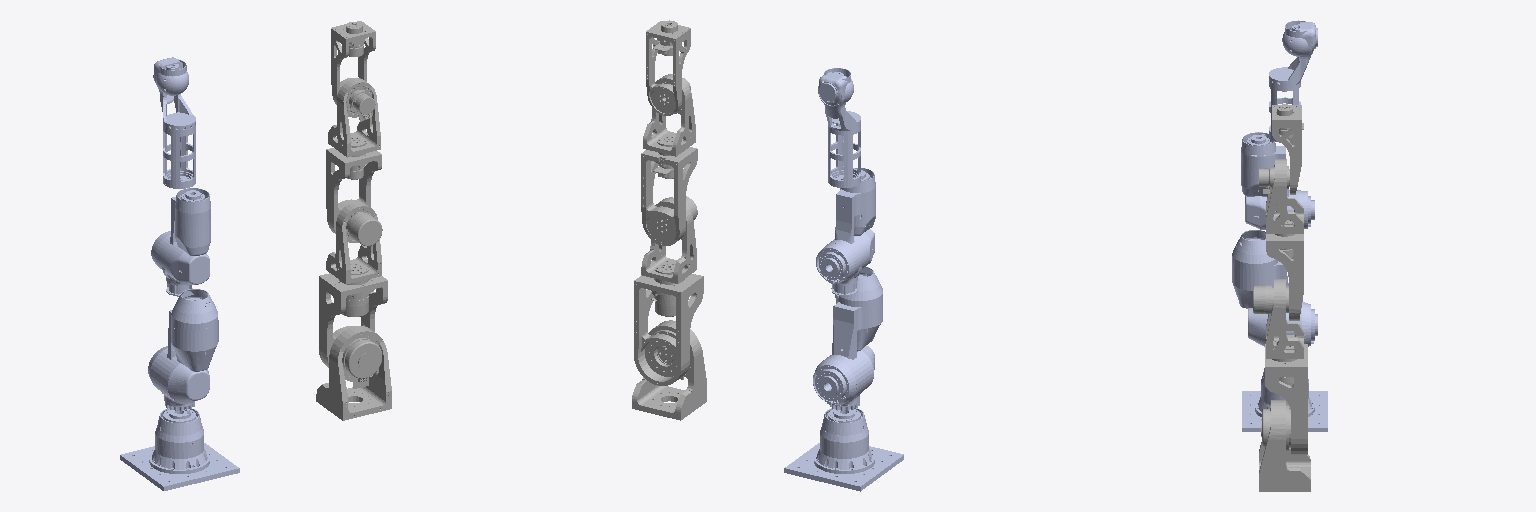
--- Render facts (derived) ---
3 views of the same robot in one strip: view 1: azimuth 30°, elevation 25°; view 2: azimuth 150°, elevation 25°; view 3: azimuth 270°, elevation 25° (orthographic).
Model dualarm with 20 links and 19 joints (14 revolute, 5 fixed), rooted at dummy_link, posed all joints at 0.
Links seen in each view (by area): view 1: mani1_link2, mani2_base, mani2_link3, mani1_link4, mani1_link3, mani1_link6, mani2_link6, mani2_link5, mani2_link2, mani1_link5, mani2_link4, mani1_link7 (+1 smaller); view 2: mani1_link3, mani2_base, mani1_link5, mani1_link2, mani2_link3, mani2_link6, mani1_link7, mani2_link2, mani2_link4, mani2_link5, mani1_link4, mani1_link6; view 3: mani1_link2, mani1_link3, mani1_link4, mani2_link3, mani1_link6, mani2_base, mani1_link5, mani2_link5, mani2_link6, mani1_link7, mani2_link2, mani2_link4 (+1 smaller).
Link boxes in pixels (bbox=[...]): mani1_link2: bbox=[316, 326, 391, 420]; mani2_base: bbox=[120, 408, 239, 490]; mani2_link3: bbox=[161, 289, 218, 396]; mani1_link4: bbox=[326, 202, 382, 284]; mani1_link3: bbox=[319, 273, 387, 367]; mani1_link6: bbox=[328, 78, 380, 157]; mani2_link6: bbox=[154, 57, 195, 188]; mani2_link5: bbox=[162, 188, 210, 278]; mani2_link2: bbox=[148, 346, 209, 413]; mani1_link5: bbox=[326, 148, 381, 233]; mani2_link4: bbox=[151, 231, 209, 296]; mani1_link7: bbox=[331, 21, 375, 104]; mani1_link3: bbox=[634, 274, 703, 385]; mani2_base: bbox=[784, 408, 903, 491]; mani1_link5: bbox=[641, 147, 697, 245]; mani1_link2: bbox=[632, 320, 706, 420]; mani2_link3: bbox=[832, 267, 882, 397]; mani2_link6: bbox=[818, 72, 860, 187]; mani1_link7: bbox=[646, 20, 690, 115]; mani2_link2: bbox=[813, 345, 874, 410]; mani2_link4: bbox=[816, 229, 874, 297]; mani2_link5: bbox=[835, 168, 875, 277]; mani1_link4: bbox=[641, 196, 697, 283]; mani1_link6: bbox=[643, 74, 695, 156]; mani1_link2: bbox=[1259, 400, 1310, 491]; mani1_link3: bbox=[1265, 344, 1307, 454]; mani1_link4: bbox=[1253, 279, 1303, 358]; mani2_link3: bbox=[1232, 230, 1288, 308]; mani1_link6: bbox=[1259, 159, 1303, 233]; mani2_base: bbox=[1242, 368, 1327, 431]; mani1_link5: bbox=[1266, 234, 1303, 320]; mani2_link5: bbox=[1241, 132, 1288, 196]; mani2_link6: bbox=[1269, 22, 1317, 142]; mani1_link7: bbox=[1272, 104, 1303, 194]; mani2_link2: bbox=[1248, 302, 1317, 346]; mani2_link4: bbox=[1245, 190, 1314, 229].
Bounding box of the posed robot: 0.625 × 0.223 × 1 m (x, y, z).
13 mesh visuals loaded from 19 distinct referenced files (13 binary STL); not drawn: 6 (reference not matched to a file when rendering).

The robot description file, URDF, robot "dualarm":
<robot
  name="dualarm">


  <!-- make dummy joint -->

<joint name="dummy_joint" type="fixed">
    <origin xyz="0 0 0" rpy="0 0 0" />
    <child link="base_link"/>
    <parent link="dummy_link"/>
  </joint>


<!-- make dummy link -->

  <link name="dummy_link">
  </link>

  <gazebo reference="dummy_link">
    <material>Gazebo/White</material>
  </gazebo>

<!--
  <link
    name="base2_link">
    <inertial>
      <origin
        xyz="1.56125112837913E-17 8.67361737988404E-17 0.05"
        rpy="0 0 0" />
      <mass
        value="100" />
      <inertia
        ixx="8.41666666666667"
        ixy="9.71445146547012E-16"
        ixz="-1.38777878078145E-17"
        iyy="8.41666666666666"
        iyz="9.25185853854297E-18"
        izz="16.6666666666667" />
    </inertial>
    <visual>
      <origin
        xyz="0 0 0"
        rpy="0 0 0" />
      <geometry>
        <mesh
          filename="package://dualarm_config/meshes/base2_link.STL" />
      </geometry>
      <material
        name="">
        <color
          rgba="0.792156862745098 0.819607843137255 0.933333333333333 1" />
      </material>
    </visual>
    <collision>
      <origin
        xyz="0 0 0"
        rpy="0 0 0" />
      <geometry>
        <mesh
          filename="package://dualarm_config/meshes/base2_link.STL" />
      </geometry>
    </collision>
  </link>

  <gazebo reference="base2_link">
              
    		<material>Gazebo/White</material>
  </gazebo>

  <joint
    name="base_joint"
    type="fixed">
    <origin
      xyz="0.0 0 0.1"
      rpy="0 0 0" />
    <parent
      link="base2_link" />
    <child
      link="base_link" />
    <axis
      xyz="0 0 0" />
  </joint>
-->

  <link
    name="base_link">
    <inertial>
      <origin
        xyz="0.32 0.225 0.1"
        rpy="0 0 0" />
      <mass
        value="100" />
      <inertia
        ixx="8.41666666666667"
        ixy="9.71445146547012E-16"
        ixz="-1.38777878078145E-17"
        iyy="8.41666666666666"
        iyz="9.25185853854297E-18"
        izz="16.6666666666667" />
    </inertial>
    <visual>
      <origin
        xyz="-0.32 -0.225 0"
        rpy="0 0 0" />
      <geometry>
        <mesh
          filename="package://dualarm_config/meshes/base.STL" />
      </geometry>
      <material
        name="">
        <color
          rgba="0.792156862745098 0.819607843137255 0.933333333333333 1" />
      </material>
    </visual>
    <collision>
      <origin
        xyz="0 0 0"
        rpy="0 0 0" />
      <geometry>
        <mesh
          filename="package://dualarm_config/meshes/base.STL" />
      </geometry>
    </collision>
  </link>

  <gazebo reference="base_link">              
    		<material>Gazebo/White</material>
  </gazebo>





<!-- distance between two manipulator is 46cm (=0.46/2 =0.23) -->
<!-- height between base origin to manipulator base is 11.2cm (=0.112) -->

  <joint
    name="base_joint_left"
    type="fixed">
    <origin
      xyz="0.230 0 0.376"
      rpy="0 0 0" />
    <parent
      link="base_link" />
    <child
      link="mani1_base" />
    <axis
      xyz="0 0 0" />
  </joint>






  <link
    name="mani1_base">
    <inertial>
      <origin
        xyz="0.000214133185221511 -0.000263993773760912 -0.00611775454032076"
        rpy="0 0 0" />
      <mass
        value="3.57330907434109" />
      <inertia
        ixx="0.0125043470138794"
        ixy="4.69689009859497E-05"
        ixz="-9.0888380429557E-06"
        iyy="0.0124805069140377"
        iyz="1.10392895970441E-05"
        izz="0.0248975799456784" />
    </inertial>
    <visual>
      <origin
        xyz="0 0 0"
        rpy="0 0 0" />
      <geometry>
        <mesh
          filename="package://dualarm_config/meshes/mani1_base.STL" />
      </geometry>
      <material
        name="">
        <color
          rgba="0.647058823529412 0.619607843137255 0.588235294117647 1" />
      </material>
    </visual>
    <collision>
      <origin
        xyz="0 0 0"
        rpy="0 0 0" />
      <geometry>
        <mesh
          filename="package://dualarm_config/meshes/mani1_base.STL" />
      </geometry>
    </collision>
  </link>

  <gazebo reference="mani1_base">
              
    		<material>Gazebo/White</material>
  </gazebo>

  <link
    name="mani1_link1">
    <inertial>
      <origin
        xyz="-3.51872665886486E-06 -0.000870878275491564 -0.00474601269745995"
        rpy="0 0 0" />
      <mass
        value="0.446330780520445" />
      <inertia
        ixx="0.000441978892899946"
        ixy="9.59086613795905E-08"
        ixz="6.49516463430428E-08"
        iyy="0.000420405291605374"
        iyz="-5.37864589703489E-06"
        izz="0.000462095403932586" />
    </inertial>
    <visual>
      <origin
        xyz="0 0 0"
        rpy="0 0 0" />
      <geometry>
        <mesh
          filename="package://dualarm_config/meshes/mani1_link1.STL" />
      </geometry>
      <material
        name="">
        <color
          rgba="0.792156862745098 0.819607843137255 0.933333333333333 1" />
      </material>
    </visual>
    <collision>
      <origin
        xyz="0 0 0"
        rpy="0 0 0" />
      <geometry>
        <mesh
          filename="package://dualarm_config/meshes/mani1_link1.STL" />
      </geometry>
    </collision>
  </link>

  <gazebo reference="mani1_link1">
              
    		<material>Gazebo/White</material>
  </gazebo>


  <joint
    name="mani1_fixed"
    type="fixed">
    <origin
      xyz="0 0 0"
      rpy="0 0 0" />
    <parent
      link="mani1_base" />
    <child
      link="mani1_link1" />
    <axis
      xyz="0 0 0" />
  </joint>



  <link
    name="mani1_link2">
    <inertial>
      <origin
        xyz="-6.49524381623627E-07 -0.0106338062219783 0.0790468559653485"
        rpy="0 0 0" />
      <mass
        value="2.1394698564504" />
      <inertia
        ixx="0.00933388216670083"
        ixy="-8.3479236244943E-07"
        ixz="6.3330829985724E-07"
        iyy="0.0116887123268387"
        iyz="0.000853478442579413"
        izz="0.0054725576811765" />
    </inertial>
    <visual>
      <origin
        xyz="0 0 0"
        rpy="0 0 0" />
      <geometry>
        <mesh
          filename="package://dualarm_config/meshes/mani1_link2.STL" />
      </geometry>
      <material
        name="">
        <color
          rgba="0.752941176470588 0.752941176470588 0.752941176470588 1" />
      </material>
    </visual>
    <collision>
      <origin
        xyz="0 0 0"
        rpy="0 0 0" />
      <geometry>
        <mesh
          filename="package://dualarm_config/meshes/mani1_link2.STL" />
      </geometry>
    </collision>
  </link>

  <gazebo reference="mani1_link2">
              
    		<material>Gazebo/White</material>
  </gazebo>

  <joint
    name="mani1_joint1"
    type="revolute">
    <origin
      xyz="0 0 0.022"
      rpy="0 0 0" />
    <parent
      link="mani1_link1" />
    <child
      link="mani1_link2" />
    <axis
      xyz="0 0 1" />
    <limit
      lower="-2.74"
      upper="2.74"
      effort="100"
      velocity="0.8" />
  </joint>

  <link
    name="mani1_link3">
    <inertial>
      <origin
        xyz="9.97578023689037E-06 -0.096396260738586 0.0145605378238661"
        rpy="0 0 0" />
      <mass
        value="1.82427493800269" />
      <inertia
        ixx="0.0123597154706515"
        ixy="1.45225672257562E-06"
        ixz="2.66098831293768E-07"
        iyy="0.00465884584470388"
        iyz="-0.0016099441739936"
        izz="0.0145981943825196" />
    </inertial>
    <visual>
      <origin
        xyz="0 0 0"
        rpy="0 0 0" />
      <geometry>
        <mesh
          filename="package://dualarm_config/meshes/mani1_link3.STL" />
      </geometry>
      <material
        name="">
        <color
          rgba="0.752941176470588 0.752941176470588 0.752941176470588 1" />
      </material>
    </visual>
    <collision>
      <origin
        xyz="0 0 0"
        rpy="0 0 0" />
      <geometry>
        <mesh
          filename="package://dualarm_config/meshes/mani1_link3.STL" />
      </geometry>
    </collision>
  </link>

  <gazebo reference="mani1_link3">
              
    		<material>Gazebo/White</material>
  </gazebo>

  <joint
    name="mani1_joint2"
    type="revolute">
    <origin
      xyz="0 0 0.133"
      rpy="-1.5708 1.0018E-33 -4.3239E-18" />
    <parent
      link="mani1_link2" />
    <child
      link="mani1_link3" />
    <axis
      xyz="0 0 -1" />
    <limit
      lower="-1.52"
      upper="1.52"
      effort="100"
      velocity="0.8" />
  </joint>

  <link
    name="mani1_link4">
    <inertial>
      <origin
        xyz="4.21635561466764E-07 -0.0119138976140091 0.0741259416420922"
        rpy="0 0 0" />
      <mass
        value="1.11094972876502" />
      <inertia
        ixx="0.00436016088344537"
        ixy="-2.3494039962872E-07"
        ixz="-2.01710559005772E-07"
        iyy="0.00465457365898766"
        iyz="0.000583991655089597"
        izz="0.00171072297566677" />
    </inertial>
    <visual>
      <origin
        xyz="0 0 0"
        rpy="0 0 0" />
      <geometry>
        <mesh
          filename="package://dualarm_config/meshes/mani1_link4.STL" />
      </geometry>
      <material
        name="">
        <color
          rgba="0.752941176470588 0.752941176470588 0.752941176470588 1" />
      </material>
    </visual>
    <collision>
      <origin
        xyz="0 0 0"
        rpy="0 0 0" />
      <geometry>
        <mesh
          filename="package://dualarm_config/meshes/mani1_link4.STL" />
      </geometry>
    </collision>
  </link>

  <gazebo reference="mani1_link4">
              
    		<material>Gazebo/White</material>
  </gazebo>

  <joint
    name="mani1_joint3"
    type="revolute">
    <origin
      xyz="0 -0.2 0"
      rpy="1.5708 -4.3239E-18 0" />
    <parent
      link="mani1_link3" />
    <child
      link="mani1_link4" />
    <axis
      xyz="0 0 1" />
    <limit
      lower="-1.6"
      upper="1.6"
      effort="100"
      velocity="0.8" />
  </joint>

  <link
    name="mani1_link5">
    <inertial>
      <origin
        xyz="1.5231209961995E-05 -0.0885578081506746 0.0139839867335461"
        rpy="0 0 0" />
      <mass
        value="1.10694723668742" />
      <inertia
        ixx="0.00638512740402005"
        ixy="1.26114775658813E-06"
        ixz="-3.67727740947096E-07"
        iyy="0.00179774595704778"
        iyz="-0.000911685772003026"
        izz="0.00712624030232044" />
    </inertial>
    <visual>
      <origin
        xyz="0 0 0"
        rpy="0 0 0" />
      <geometry>
        <mesh
          filename="package://dualarm_config/meshes/mani1_link5.STL" />
      </geometry>
      <material
        name="">
        <color
          rgba="0.752941176470588 0.752941176470588 0.752941176470588 1" />
      </material>
    </visual>
    <collision>
      <origin
        xyz="0 0 0"
        rpy="0 0 0" />
      <geometry>
        <mesh
          filename="package://dualarm_config/meshes/mani1_link5.STL" />
      </geometry>
    </collision>
  </link>

  <gazebo reference="mani1_link5">
              
    		<material>Gazebo/White</material>
  </gazebo>

  <joint
    name="mani1_joint4"
    type="revolute">
    <origin
      xyz="0 0 0.13"
      rpy="-1.5708 4.3366E-33 -6.2595E-17" />
    <parent
      link="mani1_link4" />
    <child
      link="mani1_link5" />
    <axis
      xyz="0 0 -1" />
    <limit
      lower="-1.78"
      upper="1.78"
      effort="100"
      velocity="0.8" />
  </joint>

  <link
    name="mani1_link6">
    <inertial>
      <origin
        xyz="2.29603452071085E-05 -0.00728511999418746 0.0627583259845416"
        rpy="0 0 0" />
      <mass
        value="0.888624094816857" />
      <inertia
        ixx="0.00300509646393665"
        ixy="1.01694662376443E-06"
        ixz="-8.01641358100054E-07"
        iyy="0.00332210196460049"
        iyz="0.000289757839226491"
        izz="0.00114424445227424" />
    </inertial>
    <visual>
      <origin
        xyz="0 0 0"
        rpy="0 0 0" />
      <geometry>
        <mesh
          filename="package://dualarm_config/meshes/mani1_link6.STL" />
      </geometry>
      <material
        name="">
        <color
          rgba="0.752941176470588 0.752941176470588 0.752941176470588 1" />
      </material>
    </visual>
    <collision>
      <origin
        xyz="0 0 0"
        rpy="0 0 0" />
      <geometry>
        <mesh
          filename="package://dualarm_config/meshes/mani1_link6.STL" />
      </geometry>
    </collision>
  </link>

  <gazebo reference="mani1_link6">
              
    		<material>Gazebo/White</material>
  </gazebo>

  <joint
    name="mani1_joint5"
    type="revolute">
    <origin
      xyz="0 -0.189 0"
      rpy="1.5708 -6.2595E-17 0" />
    <parent
      link="mani1_link5" />
    <child
      link="mani1_link6" />
    <axis
      xyz="0 0 1" />
    <limit
      lower="-2.35"
      upper="2.35"
      effort="100"
      velocity="0.8" />
  </joint>

  <link
    name="mani1_link7">
    <inertial>
      <origin
        xyz="5.23366069636606E-07 -0.0970566798173588 0.0113923272499066"
        rpy="0 0 0" />
      <mass
        value="0.592227093253045" />
      <inertia
        ixx="0.00265106618523082"
        ixy="-1.63647435150486E-08"
        ixz="-7.36265473728024E-07"
        iyy="0.000643177021908098"
        iyz="-0.000273036189954506"
        izz="0.00292912135647666" />
    </inertial>
    <visual>
      <origin
        xyz="0 0 0"
        rpy="0 0 0" />
      <geometry>
        <mesh
          filename="package://dualarm_config/meshes/mani1_link7.STL" />
      </geometry>
      <material
        name="">
        <color
          rgba="0.752941176470588 0.752941176470588 0.752941176470588 1" />
      </material>
    </visual>
    <collision>
      <origin
        xyz="0 0 0"
        rpy="0 0 0" />
      <geometry>
        <mesh
          filename="package://dualarm_config/meshes/mani1_link7.STL" />
      </geometry>
    </collision>
  </link>

  <gazebo reference="mani1_link7">
              
    		<material>Gazebo/White</material>
  </gazebo>

  <joint
    name="mani1_joint6"
    type="revolute">
    <origin
      xyz="0 0 0.125"
      rpy="-1.5708 -2.206E-48 2.6193E-32" />
    <parent
      link="mani1_link6" />
    <child
      link="mani1_link7" />
    <axis
      xyz="0 0 -1" />
    <limit
      lower="-1.78"
      upper="1.78"
      effort="100"
      velocity="0.8" />
  </joint>

  <link
    name="mani1_eef">
    <inertial>
      <origin
        xyz="0.00052359 -0.00015741 0.046995"
        rpy="0 0 0" />
      <mass
        value="0.26908" />
      <inertia
        ixx="8.5289E-05"
        ixy="9.3888E-10"
        ixz="-1.0334E-07"
        iyy="0.00013205"
        iyz="-3.8971E-07"
        izz="0.00014078" />
    </inertial>
    <visual>
      <origin
        xyz="0 0 0"
        rpy="0 0 0" />
      <geometry>
        <mesh
          filename="package://dualarm_config/meshes/mani1_eef.STL" />
      </geometry>
      <material
        name="">
        <color
          rgba="0.79216 0.81961 0.93333 1" />
      </material>
    </visual>
    <collision>
      <origin
        xyz="0 0 0"
        rpy="0 0 0" />
      <geometry>
        <mesh
          filename="package://dualarm_config/meshes/mani1_eef.STL" />
      </geometry>
    </collision>
  </link>

  <gazebo reference="mani1_eff">
    		<material>Gazebo/White</material>
  </gazebo>

  <joint
    name="mani1_joint7"
    type="revolute">
    <origin
      xyz="0 -0.167 0.0"
      rpy="1.5708 0 0" />
    <parent
      link="mani1_link7" />
    <child
      link="mani1_eef" />
    <axis
      xyz="0 0 1" />
    <limit
      lower="-2.61"
      upper="2.61"
      effort="100"
      velocity="0.8" />
  </joint>













<!-- distance between two manipulator is 46cm (=0.46/2 =0.23) -->
<!-- height between base origin to manipulator base is 11.2cm (=0.112) -->

  <joint
    name="base_joint_right"
    type="fixed">
    <origin
      xyz="-0.230 0 0.364"
      rpy="0 0 0" />
    <parent
      link="base_link" />
    <child
      link="mani2_base" />
    <axis
      xyz="0 0 0" />
  </joint>

<!-- Mani2 base -->
  <link
    name="mani2_base">
    <inertial>
      <origin
        xyz="-3.1029E-18 3.9676E-18 0.006"
        rpy="0 0 0" />
      <mass
        value="0.43725" />
      <inertia
        ixx="0.0015698"
        ixy="1.096E-20"
        ixz="1.1641E-20"
        iyy="0.0015694"
        iyz="-1.1277E-20"
        izz="0.0031287" />
    </inertial>
    <visual>
      <origin
        xyz="0 0 0"
        rpy="0 0 0" />
      <geometry>
        <mesh
          filename="package://dualarm_config/meshes/mani2_base.STL" />
      </geometry>
      <material
        name="">
        <color
          rgba="0.79216 0.81961 0.93333 1" />
      </material>
    </visual>
    <collision>
      <origin
        xyz="0 0 0"
        rpy="0 0 0" />
      <geometry>
        <mesh
          filename="package://dualarm_config/meshes/mani2_base.STL" />
      </geometry>
    </collision>
  </link>

  <gazebo reference="mani2_base">              
    		<material>Gazebo/White</material>
  </gazebo>

<!-- Mani2 link1 -->
  <link
    name="mani2_link1">
    <inertial>
      <origin
        xyz="0.00025963 -4.4216E-06 0.06121"
        rpy="0 0 0" />
      <mass
        value="0.67076" />
      <inertia
        ixx="0.00095513"
        ixy="-1.4502E-08"
        ixz="-1.0271E-06"
        iyy="0.00094832"
        iyz="-1.8227E-09"
        izz="0.0012889" />
    </inertial>
    <visual>
      <origin
        xyz="0 0 0"
        rpy="0 0 0" />
      <geometry>
        <mesh
          filename="package://dualarm_config/meshes/mani2_link1.STL" />
      </geometry>
      <material
        name="">
        <color
          rgba="0.79216 0.81961 0.93333 1" />
      </material>
    </visual>
    <collision>
      <origin
        xyz="0 0 0"
        rpy="0 0 0" />
      <geometry>
        <mesh
          filename="package://dualarm_config/meshes/mani2_link1.STL" />
      </geometry>
    </collision>
  </link>
 
  <gazebo reference="mani2_link2">              
    		<material>Gazebo/White</material>
  </gazebo>



 <joint
    name="mani2_fixed"
    type="fixed">
    <origin
      xyz="0 0 0.012"
      rpy="0 0 -1.5708" />
    <parent
      link="mani2_base" />
    <child
      link="mani2_link1" />
    <axis
      xyz="0 0 1" />
    <limit
      lower="-2.35"
      upper="2.35"
      effort="100"
      velocity="0.8" />
  </joint>

<!-- Mani link2 -->
  <link
    name="mani2_link2">
    <inertial>
      <origin
        xyz="6.849E-05 -0.015121 0.063905"
        rpy="0 0 0" />
      <mass
        value="0.63538" />
      <inertia
        ixx="0.00072901"
        ixy="-3.9612E-07"
        ixz="1.1922E-06"
        iyy="0.0010627"
        iyz="2.6423E-06"
        izz="0.00069297" />
    </inertial>
    <visual>
      <origin
        xyz="0 0 0"
        rpy="0 0 0" />
      <geometry>
        <mesh
          filename="package://dualarm_config/meshes/mani2_link2.STL" />
      </geometry>
      <material
        name="">
        <color
          rgba="0.79216 0.81961 0.93333 1" />
      </material>
    </visual>
    <collision>
      <origin
        xyz="0 0 0"
        rpy="0 0 0" />
      <geometry>
        <mesh
          filename="package://dualarm_config/meshes/mani2_link2.STL" />
      </geometry>
    </collision>
  </link>

  <joint
    name="mani2_joint1"
    type="revolute">
    <origin
      xyz="0 0 0.125"
      rpy="0 0 1.5708" />
    <parent
      link="mani2_link1" />
    <child
      link="mani2_link2" />
    <axis
      xyz="0 0 1" />
    <limit
      lower="-2.35"
      upper="2.35"
      effort="100"
      velocity="0.8" />
  </joint>

  <!-- Mani2 link3 -->
  <link
    name="mani2_link3">
    <inertial>
      <origin
        xyz="-0.00018188 -0.11832 0.041393"
        rpy="0 0 0" />
      <mass
        value="0.55009" />
      <inertia
        ixx="0.0009283"
        ixy="-9.2458E-07"
        ixz="-9.3918E-07"
        iyy="0.00082363"
        iyz="1.9373E-05"
        izz="0.00096206" />
    </inertial>
    <visual>
      <origin
        xyz="0 0 0"
        rpy="0 0 0" />
      <geometry>
        <mesh
          filename="package://dualarm_config/meshes/mani2_link3.STL" />
      </geometry>
      <material
        name="">
        <color
          rgba="0.79216 0.81961 0.93333 1" />
      </material>
    </visual>
    <collision>
      <origin
        xyz="0 0 0"
        rpy="0 0 0" />
      <geometry>
        <mesh
          filename="package://dualarm_config/meshes/mani2_link3.STL" />
      </geometry>
    </collision>
  </link>

  <gazebo reference="mani2_link2">              
    		<material>Gazebo/White</material>
  </gazebo>

  <joint
    name="mani2_joint2"
    type="revolute">
    <origin
      xyz="0 -0.069 0.0675"
      rpy="-1.5708 0 0" />
    <parent
      link="mani2_link2" />
    <child
      link="mani2_link3" />
    <axis
      xyz="0 0 1" />
    <limit
      lower="-1.9"
      upper="1.9"
      effort="100"
      velocity="0.8" />
  </joint>

<!-- Mani2 link4 -->
  <link
    name="mani2_link4">
    <inertial>
      <origin
        xyz="-8.8281E-05 -0.009886 0.069843"
        rpy="0 0 0" />
      <mass
        value="0.45928" />
      <inertia
        ixx="0.00040071"
        ixy="-2.3353E-07"
        ixz="-1.992E-06"
        iyy="0.00052253"
        iyz="2.47E-05"
        izz="0.00038096" />
    </inertial>
    <visual>
      <origin
        xyz="0 0 0"
        rpy="0 0 0" />
      <geometry>
        <mesh
          filename="package://dualarm_config/meshes/mani2_link4.STL" />
      </geometry>
      <material
        name="">
        <color
          rgba="0.79216 0.81961 0.93333 1" />
      </material>
    </visual>
    <collision>
      <origin
        xyz="0 0 0"
        rpy="0 0 0" />
      <geometry>
        <mesh
          filename="package://dualarm_config/meshes/mani2_link4.STL" />
      </geometry>
    </collision>
  </link>

  <gazebo reference="mani2_link4">            
    		<material>Gazebo/White</material>
  </gazebo>

  <joint
    name="mani2_joint3"
    type="revolute">
    <origin
      xyz="0 -0.2197 0.069"
      rpy="1.5708 0 0" />
    <parent
      link="mani2_link3" />
    <child
      link="mani2_link4" />
    <axis
      xyz="0 0 1" />
    <limit
      lower="-2.5"
      upper="2.5"
      effort="100"
      velocity="0.8" />
  </joint>
<!--Mani2 link5-->
  <link
    name="mani2_link5">
    <inertial>
      <origin
        xyz="0.00019482 -0.11792 0.037427"
        rpy="0 0 0" />
      <mass
        value="0.43981" />
      <inertia
        ixx="0.00052212"
        ixy="1.2216E-07"
        ixz="-9.6251E-08"
        iyy="0.00035826"
        iyz="1.9152E-05"
        izz="0.00054597" />
    </inertial>
    <visual>
      <origin
        xyz="0 0 0"
        rpy="0 0 0" />
      <geometry>
        <mesh
          filename="package://dualarm_config/meshes/mani2_link5.STL" />
      </geometry>
      <material
        name="">
        <color
          rgba="0.79216 0.81961 0.93333 1" />
      </material>
    </visual>
    <collision>
      <origin
        xyz="0 0 0"
        rpy="0 0 0" />
      <geometry>
        <mesh
          filename="package://dualarm_config/meshes/mani2_link5.STL" />
      </geometry>
    </collision>
  </link>

  <gazebo reference="mani2_link5">     
    		<material>Gazebo/White</material>
  </gazebo>

  <joint
    name="mani2_joint4"
    type="revolute">
    <origin
      xyz="0 -0.061 0.0753"
      rpy="-1.5708 0 0" />
    <parent
      link="mani2_link4" />
    <child
      link="mani2_link5" />
    <axis
      xyz="0 0 1" />
    <limit
      lower="-1.8"
      upper="1.8"
      effort="100"
      velocity="0.8" />
  </joint>

<!-- Mani2 link6 -->
  <link
    name="mani2_link6">
    <inertial>
      <origin
        xyz="1.0745E-05 0.030079 0.16626"
        rpy="0 0 0" />
      <mass
        value="0.30699" />
      <inertia
        ixx="0.0004714"
        ixy="3.3142E-08"
        ixz="-6.2237E-09"
        iyy="0.00049632"
        iyz="-4.3014E-05"
        izz="0.00023077" />
    </inertial>
    <visual>
      <origin
        xyz="0 0 0"
        rpy="0 0 0" />
      <geometry>
        <mesh
          filename="package://dualarm_config/meshes/mani2_link6.STL" />
      </geometry>
      <material
        name="">
        <color
          rgba="0.79216 0.81961 0.93333 1" />
      </material>
    </visual>
    <collision>
      <origin
        xyz="0 0 0"
        rpy="0 0 0" />
      <geometry>
        <mesh
          filename="package://dualarm_config/meshes/mani2_link6.STL" />
      </geometry>
    </collision>
  </link>

  <gazebo reference="mani2_link6">              
    		<material>Gazebo/White</material>
  </gazebo>

  <joint
    name="mani2_joint5"
    type="revolute">
    <origin
      xyz="0 -0.2 0.061"
      rpy="1.5708 0 0" />
    <parent
      link="mani2_link5" />
    <child
      link="mani2_link6" />
    <axis
      xyz="0 0 1" />
    <limit
      lower="-2.15"
      upper="2.15"
      effort="100"
      velocity="0.8" />
  </joint>

<!-- Mani2 link7 -->
  <link
    name="mani2_link7">
    <inertial>
      <origin
        xyz="-0.00010944 -0.0075746 -0.032739"
        rpy="0 0 0" />
      <mass
        value="0.10158" />
      <inertia
        ixx="6.5446E-05"
        ixy="-2.9093E-08"
        ixz="4.8842E-08"
        iyy="6.9978E-05"
        iyz="2.982E-07"
        izz="6.75E-05" />
    </inertial>
    <visual>
      <origin
        xyz="0 0 0"
        rpy="0 0 0" />
      <geometry>
        <mesh
          filename="package://dualarm_config/meshes/mani2_link7.STL" />
      </geometry>
      <material
        name="">
        <color
          rgba="0.79216 0.81961 0.93333 1" />
      </material>
    </visual>
    <collision>
      <origin
        xyz="0 0 0"
        rpy="0 0 0" />
      <geometry>
        <mesh
          filename="package://dualarm_config/meshes/mani2_link7.STL" />
      </geometry>
    </collision>
  </link>

  <gazebo reference="mani2_link7">            
    		<material>Gazebo/White</material>
  </gazebo>

  <joint
    name="mani2_joint6"
    type="revolute">
    <origin
      xyz="0 0.032 0.25"
      rpy="-1.5708 0 0" />
    <parent
      link="mani2_link6" />
    <child
      link="mani2_link7" />
    <axis
      xyz="0 0 1" />
    <limit
      lower="-2.09"
      upper="2.09"
      effort="100"
      velocity="0.8" />
  </joint>

  <link
    name="mani2_eef">
    <inertial>
      <origin
        xyz="0.00052359 -0.00015741 0.046995"
        rpy="0 0 0" />
      <mass
        value="0.26908" />
      <inertia
        ixx="8.5289E-05"
        ixy="9.3888E-10"
        ixz="-1.0334E-07"
        iyy="0.00013205"
        iyz="-3.8971E-07"
        izz="0.00014078" />
    </inertial>
    <visual>
      <origin
        xyz="0 0 0"
        rpy="0 0 0" />
      <geometry>
        <mesh
          filename="package://dualarm_config/meshes/mani2_eef.STL" />
      </geometry>
      <material
        name="">
        <color
          rgba="0.79216 0.81961 0.93333 1" />
      </material>
    </visual>
    <collision>
      <origin
        xyz="0 0 0"
        rpy="0 0 0" />
      <geometry>
        <mesh
          filename="package://dualarm_config/meshes/mani2_eef.STL" />
      </geometry>
    </collision>
  </link>

  <gazebo reference="mani2_eef">
    		<material>Gazebo/White</material>
  </gazebo>

  <joint
    name="mani2_joint7"
    type="revolute">
    <origin
      xyz="0 -0.0405 -0.032"
      rpy="1.5708 0 0" />
    <parent
      link="mani2_link7" />
    <child
      link="mani2_eef" />
    <axis
      xyz="0 0 1" />
    <limit
      lower="-2.95"
      upper="2.95"
      effort="100"
      velocity="0.8" />
  </joint>


<!-- Transmissions for ROS Control -->

  <transmission name="left_tran1">
    <type>transmission_interface/SimpleTransmission</type>
    <joint name="mani1_joint1">
      <hardwareInterface>hardware_interface/PositionJointInterface</hardwareInterface>
    </joint>
    <actuator name="left_motor1">
      <hardwareInterface>hardware_interface/PositionJointInterface</hardwareInterface>
      <mechanicalReduction>1</mechanicalReduction>
    </actuator>
  </transmission>
  <transmission name="left_tran2">
    <type>transmission_interface/SimpleTransmission</type>
    <joint name="mani1_joint2">
      <hardwareInterface>hardware_interface/PositionJointInterface</hardwareInterface>
    </joint>
    <actuator name="left_motor2">
      <hardwareInterface>hardware_interface/PositionJointInterface</hardwareInterface>
      <mechanicalReduction>1</mechanicalReduction>
    </actuator>
  </transmission>
  <transmission name="left_tran3">
    <type>transmission_interface/SimpleTransmission</type>
    <joint name="mani1_joint3">
      <hardwareInterface>hardware_interface/PositionJointInterface</hardwareInterface>
    </joint>
    <actuator name="left_motor3">
      <hardwareInterface>hardware_interface/PositionJointInterface</hardwareInterface>
      <mechanicalReduction>1</mechanicalReduction>
    </actuator>
  </transmission>
  <transmission name="left_tran4">
    <type>transmission_interface/SimpleTransmission</type>
    <joint name="mani1_joint4">
      <hardwareInterface>hardware_interface/PositionJointInterface</hardwareInterface>
    </joint>
    <actuator name="left_motor4">
      <hardwareInterface>hardware_interface/PositionJointInterface</hardwareInterface>
      <mechanicalReduction>1</mechanicalReduction>
    </actuator>
  </transmission>
  <transmission name="left_tran5">
    <type>transmission_interface/SimpleTransmission</type>
    <joint name="mani1_joint5">
      <hardwareInterface>hardware_interface/PositionJointInterface</hardwareInterface>
    </joint>
    <actuator name="left_motor5">
      <hardwareInterface>hardware_interface/PositionJointInterface</hardwareInterface>
      <mechanicalReduction>1</mechanicalReduction>
    </actuator>
  </transmission>
  <transmission name="left_tran6">
    <type>transmission_interface/SimpleTransmission</type>
    <joint name="mani1_joint6">
      <hardwareInterface>hardware_interface/PositionJointInterface</hardwareInterface>
    </joint>
    <actuator name="left_motor6">
      <hardwareInterface>hardware_interface/PositionJointInterface</hardwareInterface>
      <mechanicalReduction>1</mechanicalReduction>
    </actuator>
  </transmission>
  <transmission name="left_tran7">
    <type>transmission_interface/SimpleTransmission</type>
    <joint name="mani1_joint7">
      <hardwareInterface>hardware_interface/PositionJointInterface</hardwareInterface>
    </joint>
    <actuator name="left_motor7">
      <hardwareInterface>hardware_interface/PositionJointInterface</hardwareInterface>
      <mechanicalReduction>1</mechanicalReduction>
    </actuator>
  </transmission>






  <transmission name="right_tran1">
    <type>transmission_interface/SimpleTransmission</type>
    <joint name="mani2_joint1">
      <hardwareInterface>hardware_interface/PositionJointInterface</hardwareInterface>
    </joint>
    <actuator name="right_motor1">
      <hardwareInterface>hardware_interface/PositionJointInterface</hardwareInterface>
      <mechanicalReduction>1</mechanicalReduction>
    </actuator>
  </transmission>
  <transmission name="right_tran2">
    <type>transmission_interface/SimpleTransmission</type>
    <joint name="mani2_joint2">
      <hardwareInterface>hardware_interface/PositionJointInterface</hardwareInterface>
    </joint>
    <actuator name="right_motor2">
      <hardwareInterface>hardware_interface/PositionJointInterface</hardwareInterface>
      <mechanicalReduction>1</mechanicalReduction>
    </actuator>
  </transmission>
  <transmission name="right_tran3">
    <type>transmission_interface/SimpleTransmission</type>
    <joint name="mani2_joint3">
      <hardwareInterface>hardware_interface/PositionJointInterface</hardwareInterface>
    </joint>
    <actuator name="right_motor3">
      <hardwareInterface>hardware_interface/PositionJointInterface</hardwareInterface>
      <mechanicalReduction>1</mechanicalReduction>
    </actuator>
  </transmission>
  <transmission name="right_tran4">
    <type>transmission_interface/SimpleTransmission</type>
    <joint name="mani2_joint4">
      <hardwareInterface>hardware_interface/PositionJointInterface</hardwareInterface>
    </joint>
    <actuator name="right_motor4">
      <hardwareInterface>hardware_interface/PositionJointInterface</hardwareInterface>
      <mechanicalReduction>1</mechanicalReduction>
    </actuator>
  </transmission>
  <transmission name="right_tran5">
    <type>transmission_interface/SimpleTransmission</type>
    <joint name="mani2_joint5">
      <hardwareInterface>hardware_interface/PositionJointInterface</hardwareInterface>
    </joint>
    <actuator name="right_motor5">
      <hardwareInterface>hardware_interface/PositionJointInterface</hardwareInterface>
      <mechanicalReduction>1</mechanicalReduction>
    </actuator>
  </transmission>
  <transmission name="right_tran6">
    <type>transmission_interface/SimpleTransmission</type>
    <joint name="mani2_joint6">
      <hardwareInterface>hardware_interface/PositionJointInterface</hardwareInterface>
    </joint>
    <actuator name="right_motor6">
      <hardwareInterface>hardware_interface/PositionJointInterface</hardwareInterface>
      <mechanicalReduction>1</mechanicalReduction>
    </actuator>
  </transmission>
  <transmission name="right_tran7">
    <type>transmission_interface/SimpleTransmission</type>
    <joint name="mani2_joint7">
      <hardwareInterface>hardware_interface/PositionJointInterface</hardwareInterface>
    </joint>
    <actuator name="right_motor7">
      <hardwareInterface>hardware_interface/PositionJointInterface</hardwareInterface>
      <mechanicalReduction>1</mechanicalReduction>
    </actuator>
  </transmission>


  <!-- ros_control plugin -->
  <gazebo>
    <plugin filename="libgazebo_ros_control.so" name="gazebo_ros_control">
      <robotNamespace>/dualarm</robotNamespace>
    </plugin>
  </gazebo>

<!-- effort con
 <transmission name="trans_mani1_joint1">
        <type>transmission_interface/SimpleTransmission</type>
        <joint name="mani1_joint1">
            <hardwareInterface>hardware_interface/EffortJointInterface</hardwareInterface>
        </joint>
        <actuator name="mani1_joint1_motor">
            <hardwareInterface>hardware_interface/EffortJointInterface</hardwareInterface>
            <mechanicalReduction>1</mechanicalReduction>
        </actuator>
    </transmission>
    <transmission name="trans_mani1_joint2">
        <type>transmission_interface/SimpleTransmission</type>
        <joint name="mani1_joint2">
            <hardwareInterface>hardware_interface/EffortJointInterface</hardwareInterface>
        </joint>
        <actuator name="mani1_joint2_motor">
            <hardwareInterface>hardware_interface/EffortJointInterface</hardwareInterface>
            <mechanicalReduction>1</mechanicalReduction>
        </actuator>
    </transmission>
    <transmission name="trans_mani1_joint3">
        <type>transmission_interface/SimpleTransmission</type>
        <joint name="mani1_joint3">
            <hardwareInterface>hardware_interface/EffortJointInterface</hardwareInterface>
        </joint>
        <actuator name="mani1_joint3_motor">
            <hardwareInterface>hardware_interface/EffortJointInterface</hardwareInterface>
            <mechanicalReduction>1</mechanicalReduction>
        </actuator>
    </transmission>
    <transmission name="trans_mani1_joint4">
        <type>transmission_interface/SimpleTransmission</type>
        <joint name="mani1_joint4">
            <hardwareInterface>hardware_interface/EffortJointInterface</hardwareInterface>
        </joint>
        <actuator name="mani1_joint4_motor">
            <hardwareInterface>hardware_interface/EffortJointInterface</hardwareInterface>
            <mechanicalReduction>1</mechanicalReduction>
        </actuator>
    </transmission>
    <transmission name="trans_mani1_joint5">
        <type>transmission_interface/SimpleTransmission</type>
        <joint name="mani1_joint5">
            <hardwareInterface>hardware_interface/EffortJointInterface</hardwareInterface>
        </joint>
        <actuator name="mani1_joint5_motor">
            <hardwareInterface>hardware_interface/EffortJointInterface</hardwareInterface>
            <mechanicalReduction>1</mechanicalReduction>
        </actuator>
    </transmission>
    <transmission name="trans_mani1_joint6">
        <type>transmission_interface/SimpleTransmission</type>
        <joint name="mani1_joint6">
            <hardwareInterface>hardware_interface/EffortJointInterface</hardwareInterface>
        </joint>
        <actuator name="mani1_joint6_motor">
            <hardwareInterface>hardware_interface/EffortJointInterface</hardwareInterface>
            <mechanicalReduction>1</mechanicalReduction>
        </actuator>
    </transmission>
    <transmission name="trans_mani1_joint7">
        <type>transmission_interface/SimpleTransmission</type>
        <joint name="mani1_joint7">
            <hardwareInterface>hardware_interface/EffortJointInterface</hardwareInterface>
        </joint>
        <actuator name="mani1_joint7_motor">
            <hardwareInterface>hardware_interface/EffortJointInterface</hardwareInterface>
            <mechanicalReduction>1</mechanicalReduction>
        </actuator>
    </transmission>
    <transmission name="trans_mani2_joint1">
        <type>transmission_interface/SimpleTransmission</type>
        <joint name="mani2_joint1">
            <hardwareInterface>hardware_interface/EffortJointInterface</hardwareInterface>
        </joint>
        <actuator name="mani2_joint1_motor">
            <hardwareInterface>hardware_interface/EffortJointInterface</hardwareInterface>
            <mechanicalReduction>1</mechanicalReduction>
        </actuator>
    </transmission>
    <transmission name="trans_mani2_joint2">
        <type>transmission_interface/SimpleTransmission</type>
        <joint name="mani2_joint2">
            <hardwareInterface>hardware_interface/EffortJointInterface</hardwareInterface>
        </joint>
        <actuator name="mani2_joint2_motor">
            <hardwareInterface>hardware_interface/EffortJointInterface</hardwareInterface>
            <mechanicalReduction>1</mechanicalReduction>
        </actuator>
    </transmission>
    <transmission name="trans_mani2_joint3">
        <type>transmission_interface/SimpleTransmission</type>
        <joint name="mani2_joint3">
            <hardwareInterface>hardware_interface/EffortJointInterface</hardwareInterface>
        </joint>
        <actuator name="mani2_joint3_motor">
            <hardwareInterface>hardware_interface/EffortJointInterface</hardwareInterface>
            <mechanicalReduction>1</mechanicalReduction>
        </actuator>
    </transmission>
    <transmission name="trans_mani2_joint4">
        <type>transmission_interface/SimpleTransmission</type>
        <joint name="mani2_joint4">
            <hardwareInterface>hardware_interface/EffortJointInterface</hardwareInterface>
        </joint>
        <actuator name="mani2_joint4_motor">
            <hardwareInterface>hardware_interface/EffortJointInterface</hardwareInterface>
            <mechanicalReduction>1</mechanicalReduction>
        </actuator>
    </transmission>
    <transmission name="trans_mani2_joint5">
        <type>transmission_interface/SimpleTransmission</type>
        <joint name="mani2_joint5">
            <hardwareInterface>hardware_interface/EffortJointInterface</hardwareInterface>
        </joint>
        <actuator name="mani2_joint5_motor">
            <hardwareInterface>hardware_interface/EffortJointInterface</hardwareInterface>
            <mechanicalReduction>1</mechanicalReduction>
        </actuator>
    </transmission>
    <transmission name="trans_mani2_joint6">
        <type>transmission_interface/SimpleTransmission</type>
        <joint name="mani2_joint6">
            <hardwareInterface>hardware_interface/EffortJointInterface</hardwareInterface>
        </joint>
        <actuator name="mani2_joint6_motor">
            <hardwareInterface>hardware_interface/EffortJointInterface</hardwareInterface>
            <mechanicalReduction>1</mechanicalReduction>
        </actuator>
    </transmission>
    <transmission name="trans_mani2_joint7">
        <type>transmission_interface/SimpleTransmission</type>
        <joint name="mani2_joint7">
            <hardwareInterface>hardware_interface/EffortJointInterface</hardwareInterface>
        </joint>
        <actuator name="mani2_joint7_motor">
            <hardwareInterface>hardware_interface/EffortJointInterface</hardwareInterface>
            <mechanicalReduction>1</mechanicalReduction>
        </actuator>
    </transmission>
    <gazebo>
        <plugin name="gazebo_ros_control" filename="libgazebo_ros_control.so">
            <robotNamespace>/dualarm_config</robotNamespace>
        </plugin>
    </gazebo>
-->







</robot>
